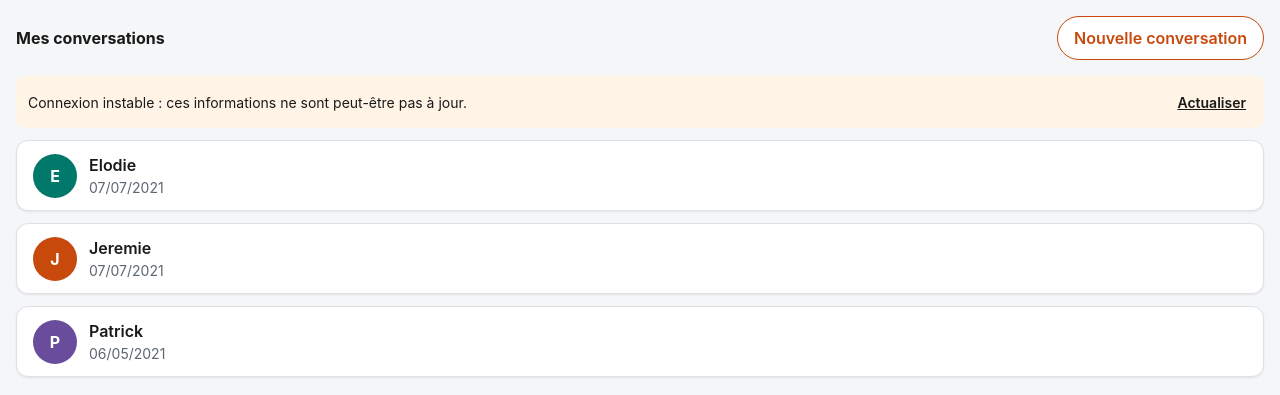
Test case: ConversationsSidebar › keeps showing cached conversations when a refresh fails
The width and height of the screenshot is (1280, 395).
Expected: the text "Connexion instable : ces informations ne sont peut-être pas à jour. Actualiser" is shown, [16, 76, 1264, 128]
Expected: the number of links is 3, [16, 140, 1264, 211]; [16, 223, 1264, 294]; [16, 306, 1264, 377]
Click the button "Actualiser".
click(1212, 102)  # box [1172, 80, 1252, 124]
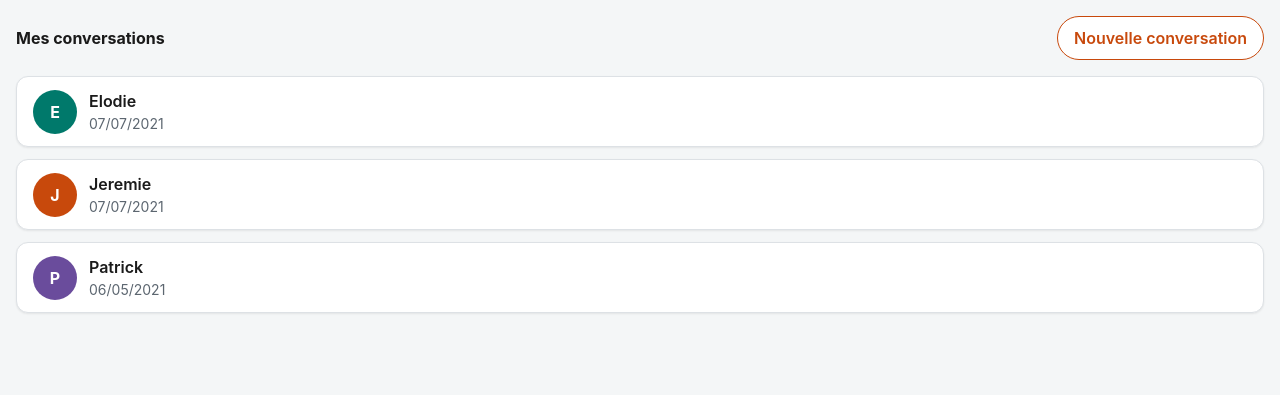
Expected: the text "Connexion instable" is gone
